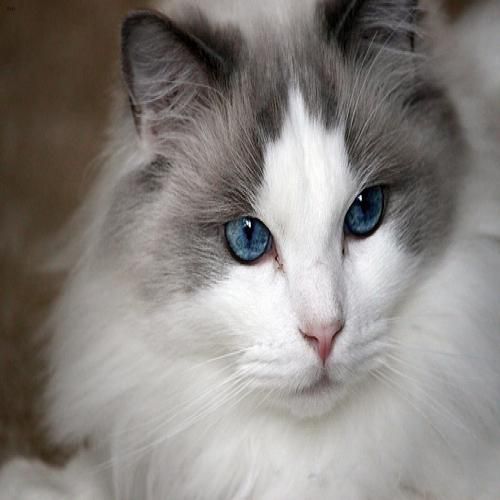ragdoll: (114, 1, 471, 423)
